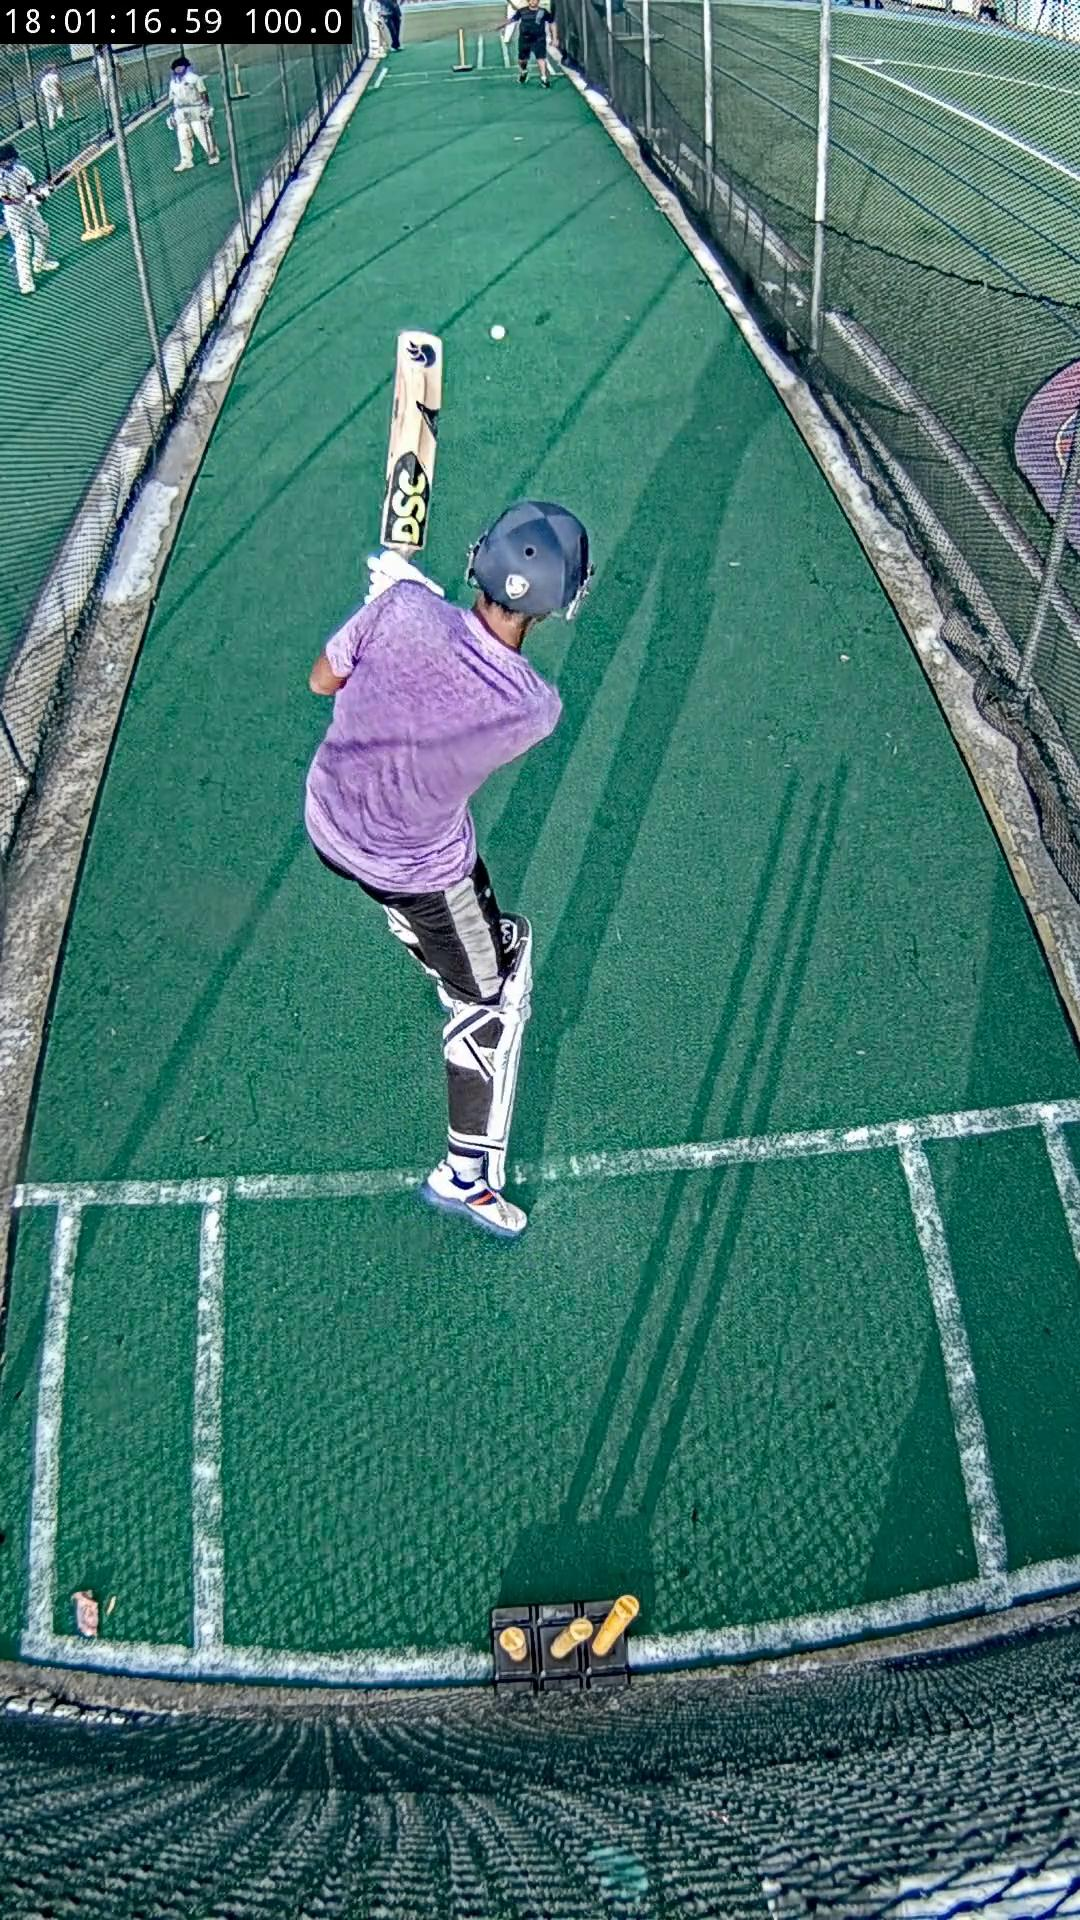ball: (492, 326, 506, 342)
bat: (378, 330, 443, 559)
gloves: (364, 547, 443, 604)
helmet: (468, 498, 588, 615)
pads: (484, 915, 533, 1192)
stumps: (492, 1594, 641, 1692)
